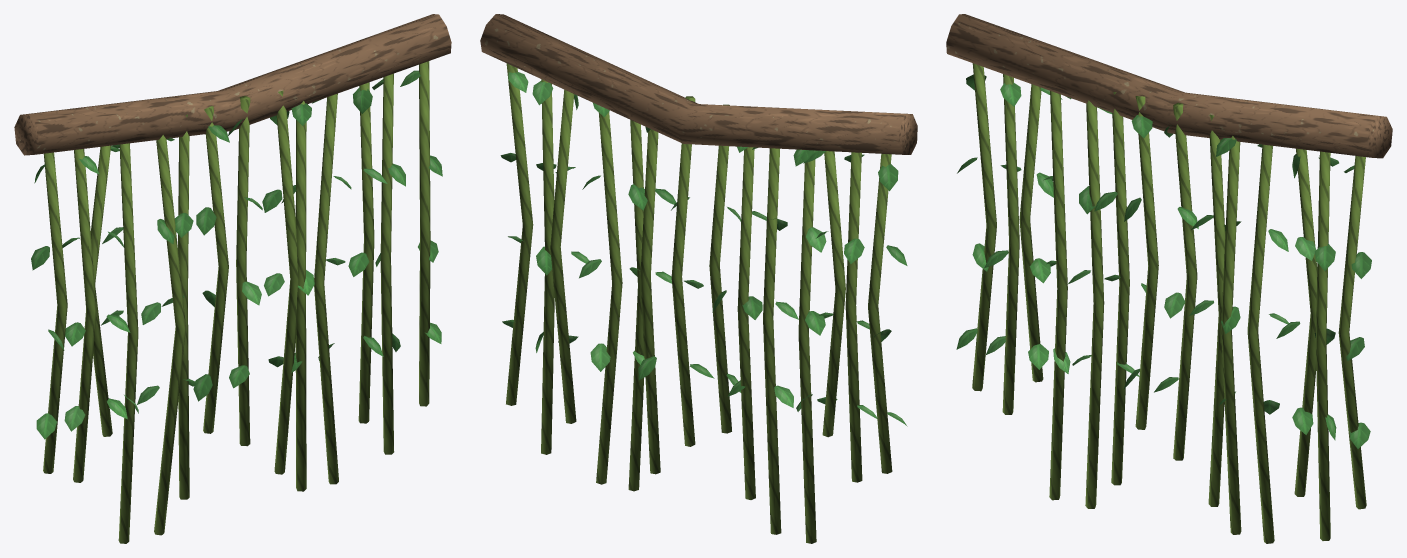
The model's file is liana_curtain.glb.
The picture shows the model from 3 angles, left to right: view 1: azimuth 30°, elevation 25°; view 2: azimuth 150°, elevation 25°; view 3: azimuth 330°, elevation 25°; orthographic projection. The views are drawn at different scales.
Visible parts, largest first — view 1: Curtain_leaf; view 2: Curtain_leaf; view 3: Curtain_leaf.
Boxes of the visible parts, x1=… form: Curtain_leaf: x1=14, y1=14, x2=451, y2=543; Curtain_leaf: x1=480, y1=14, x2=917, y2=543; Curtain_leaf: x1=946, y1=14, x2=1392, y2=543.
Bounding box in the file's own units: 2.64 × 2.7 × 0.3487.
1 material, 1 textured.
